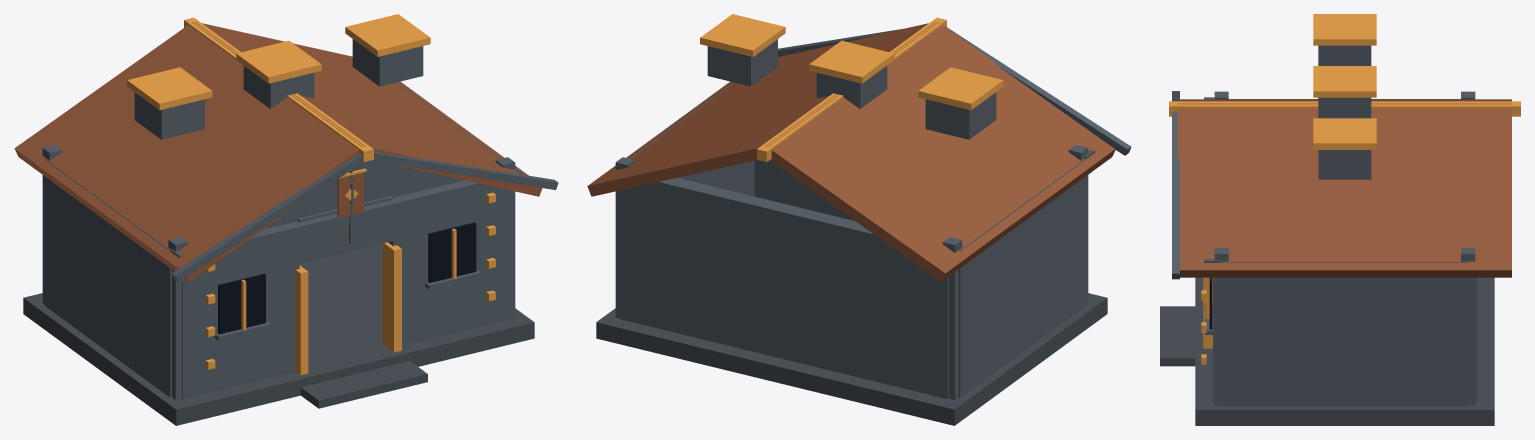
Rendered from hall_dwarf_lv1.glb.
3 views of the same model, side by side, from view 1: azimuth 30°, elevation 25°; view 2: azimuth 150°, elevation 25°; view 3: azimuth 270°, elevation 25° (orthographic). The views are drawn at different scales.
Visible parts, largest first — view 1: hall_dwarf_lv1; view 2: hall_dwarf_lv1; view 3: hall_dwarf_lv1.
Part boxes in pixels (x1,y1,x2,y2): hall_dwarf_lv1: (14,14,558,425); hall_dwarf_lv1: (587,14,1131,425); hall_dwarf_lv1: (1160,14,1520,425).
Size of the model in its own units: 24.56 by 16.4 by 20.5.
